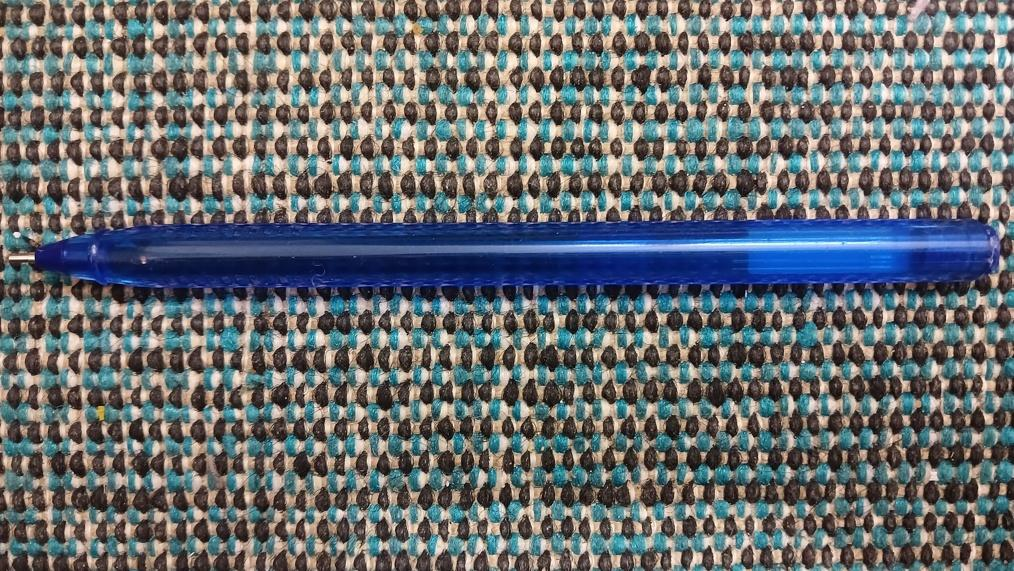pen: (4, 222, 1002, 287)
